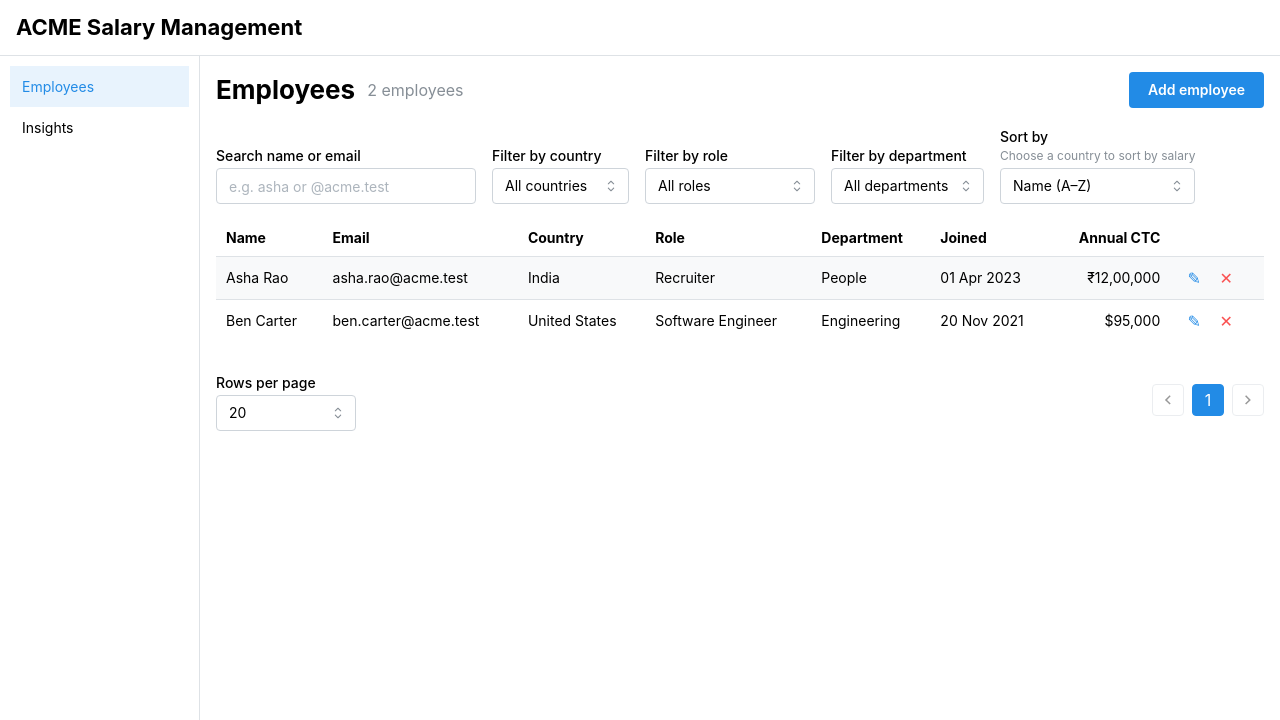
Delete employee › asks for confirmation naming the employee, and sends nothing on cancel
This screenshot has width=1280, height=720.
Click the button named "Delete Asha Rao": (1226, 278) top-left (1212, 264), bottom-right (1240, 292)
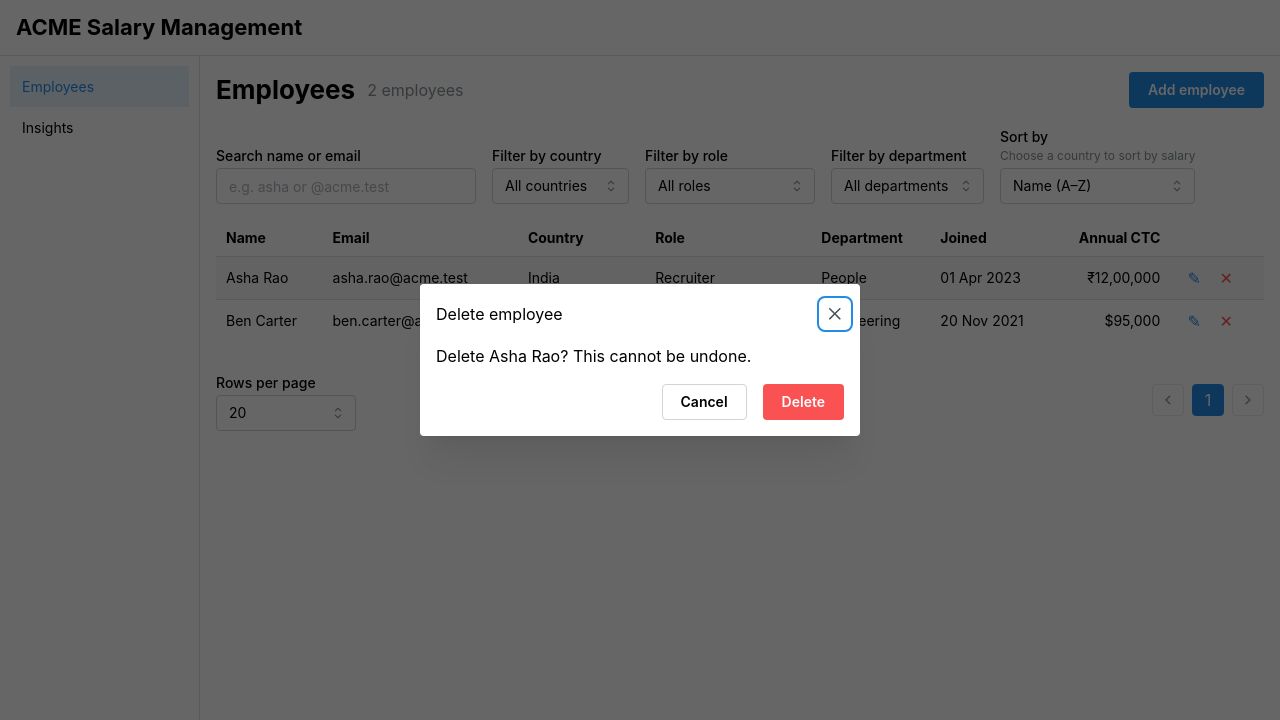
Result: the dialog "Delete employee" shows "Delete Asha Rao? This cannot be undone." at top-left (436, 346), bottom-right (751, 366)
Click the button "Cancel": (704, 402) top-left (662, 384), bottom-right (746, 420)
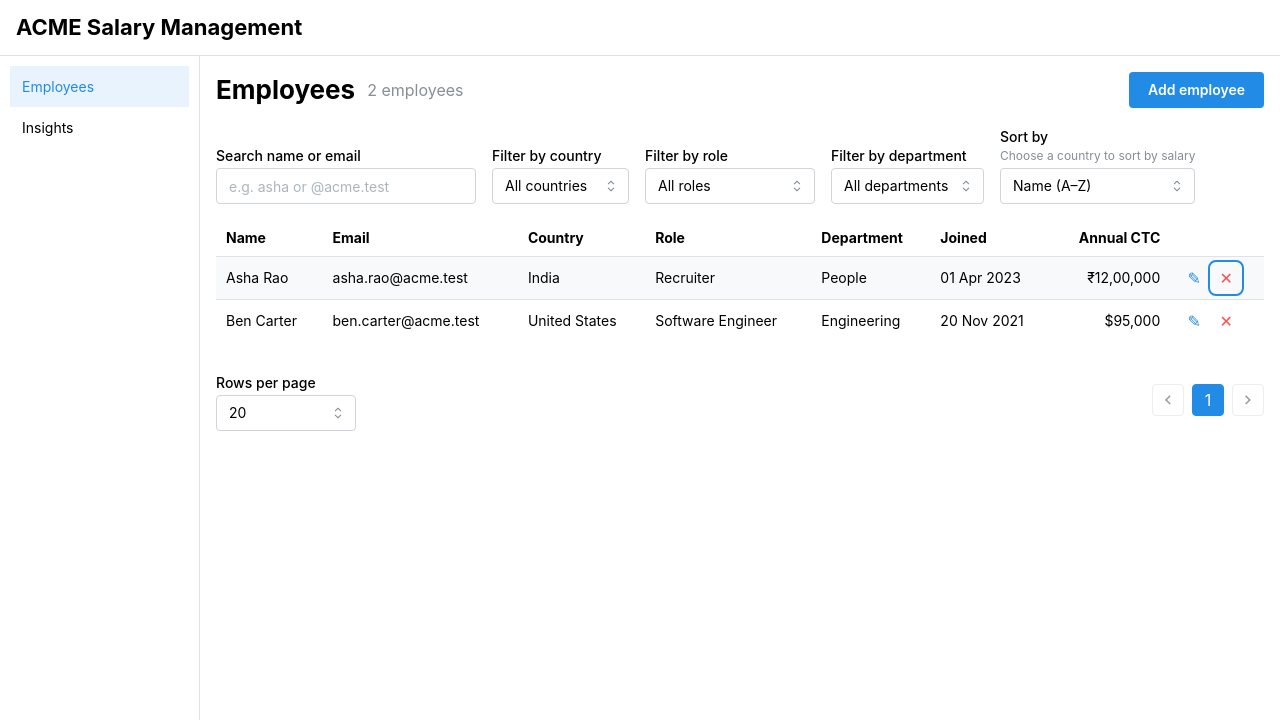
Result: the heading "Delete employee" is gone
